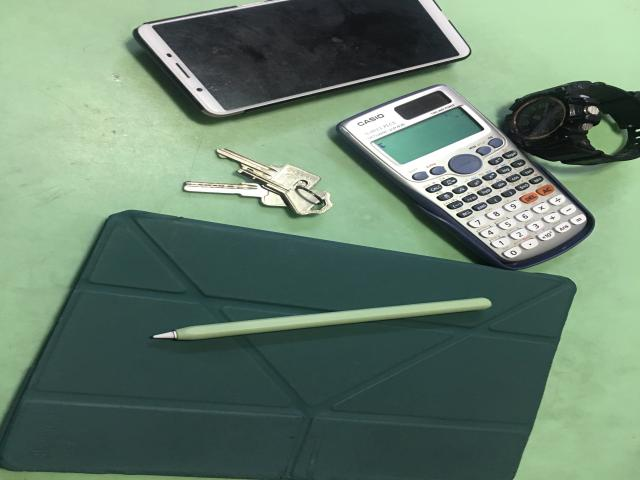Keys: (183, 149, 332, 215)
Mobile phone: (133, 0, 470, 117)
Watch: (503, 81, 640, 165)
